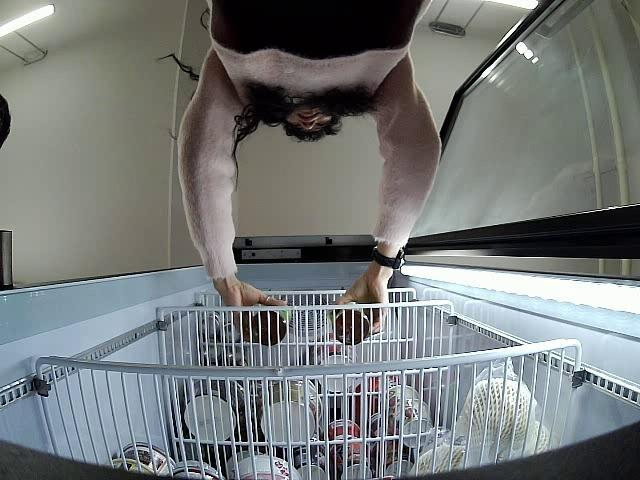19_17cha: (248, 302, 292, 346), (335, 303, 368, 345)
